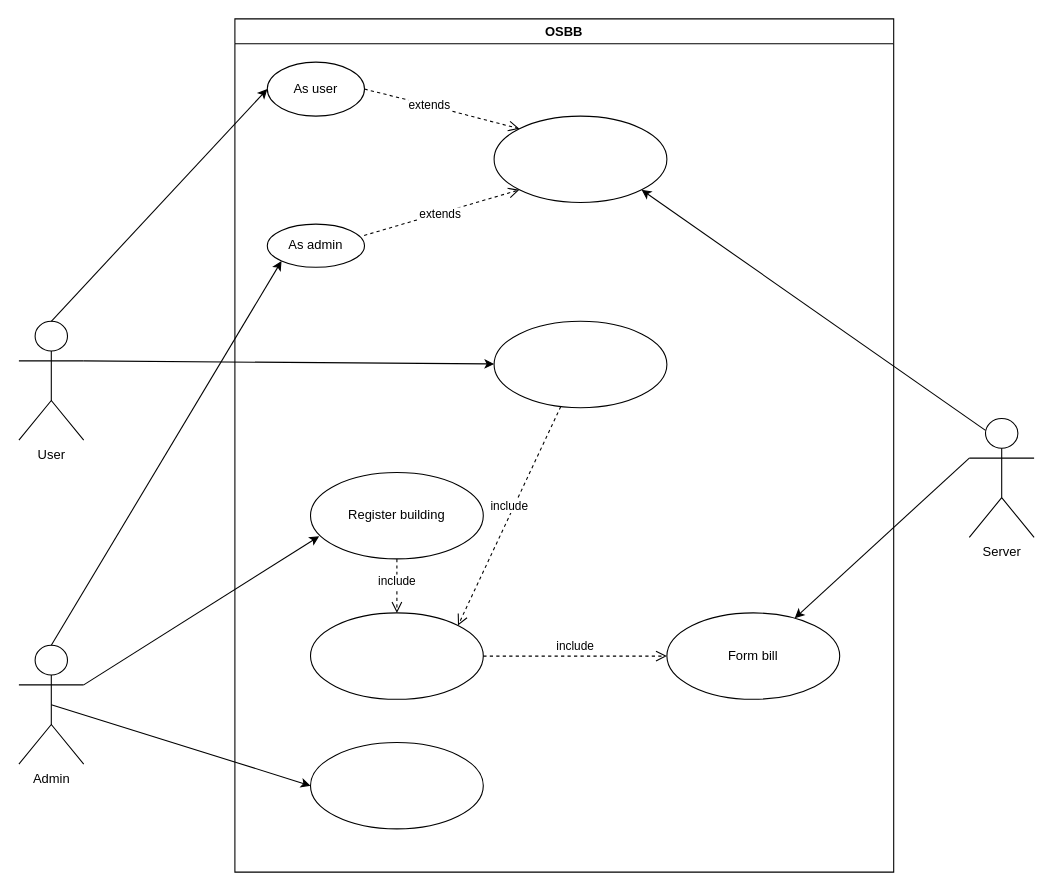
Image size: 1053x891. Some labels were removed from this diagram. The centre of each missing label's shape, as x and y in pixels:
Create polls: [396,785]
Register flat (square per metr): [396,655]
Sign in or register / forgot password: [580,158]
Subscription on bill By .../: [580,364]
